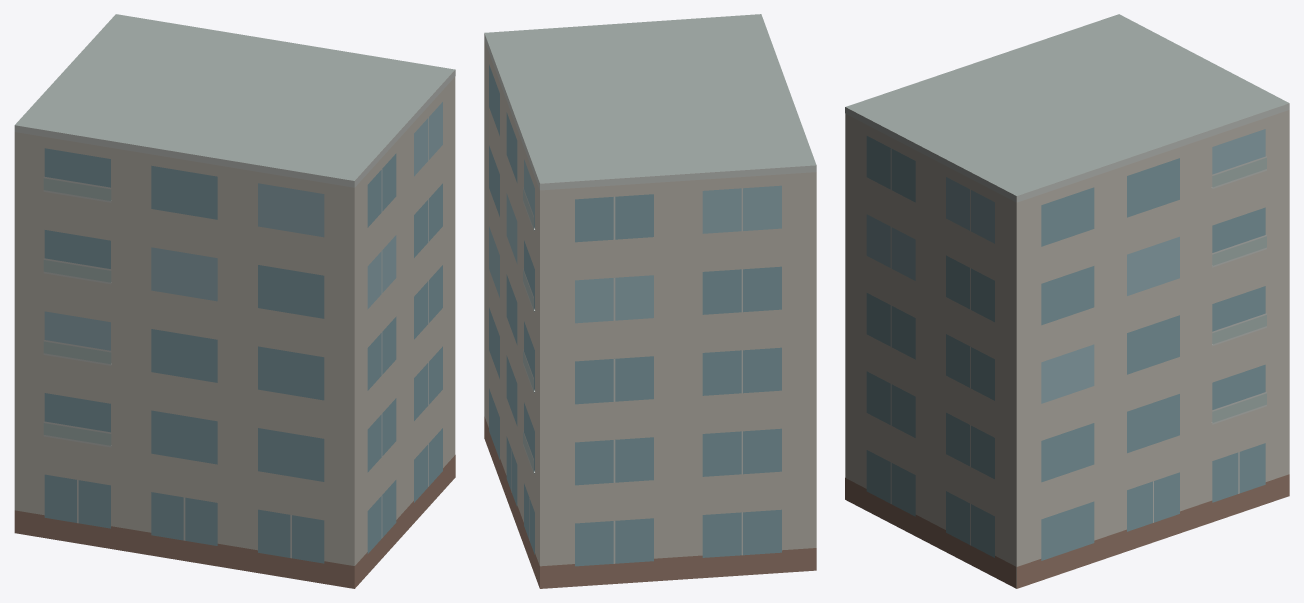
File: survey-upis-32768813.glb
3 views of the same model, side by side, from view 1: azimuth 30°, elevation 25°; view 2: azimuth 150°, elevation 25°; view 3: azimuth 270°, elevation 25° (orthographic). The views are drawn at different scales.
Visible parts, largest first — view 1: survey-upis-32768813.tmp; view 2: survey-upis-32768813.tmp; view 3: survey-upis-32768813.tmp.
Boxes of the visible parts, x1=… form: survey-upis-32768813.tmp: x1=14, y1=14, x2=455, y2=588; survey-upis-32768813.tmp: x1=484, y1=14, x2=816, y2=588; survey-upis-32768813.tmp: x1=845, y1=14, x2=1289, y2=588.
Bounding box in the file's own units: 14.63 × 14.7 × 15.09.
